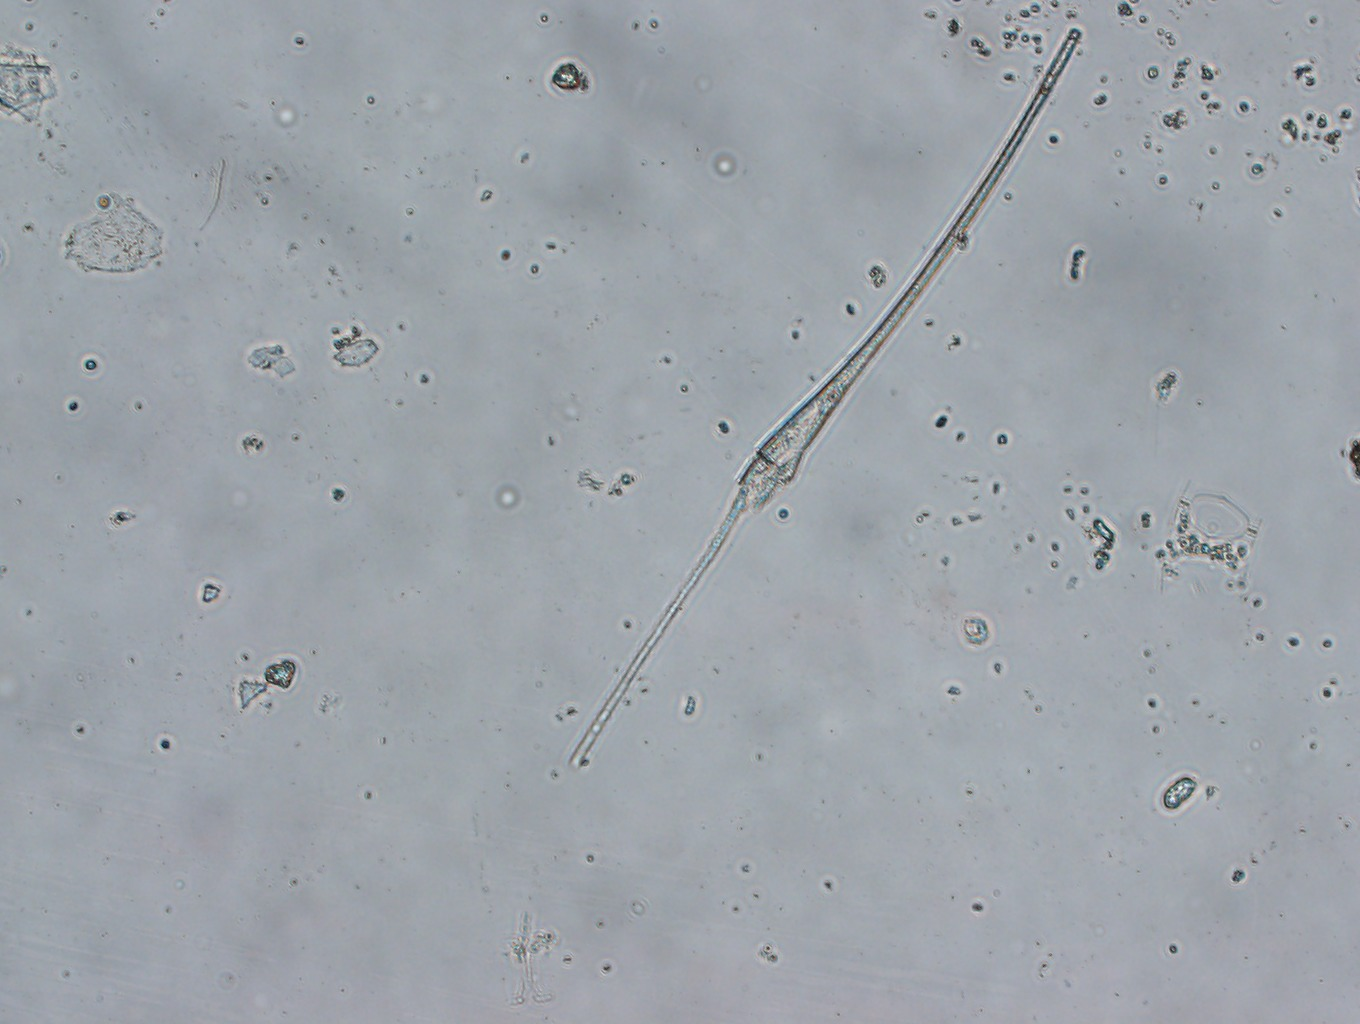ceratium fusus: (569, 23, 1086, 772)
eucampia: (1153, 467, 1265, 610)
